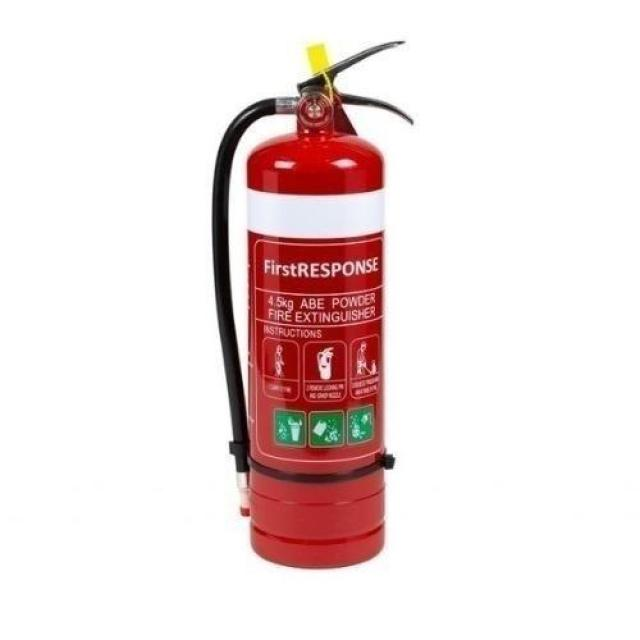fire_extinguisher: (205, 33, 417, 574)
